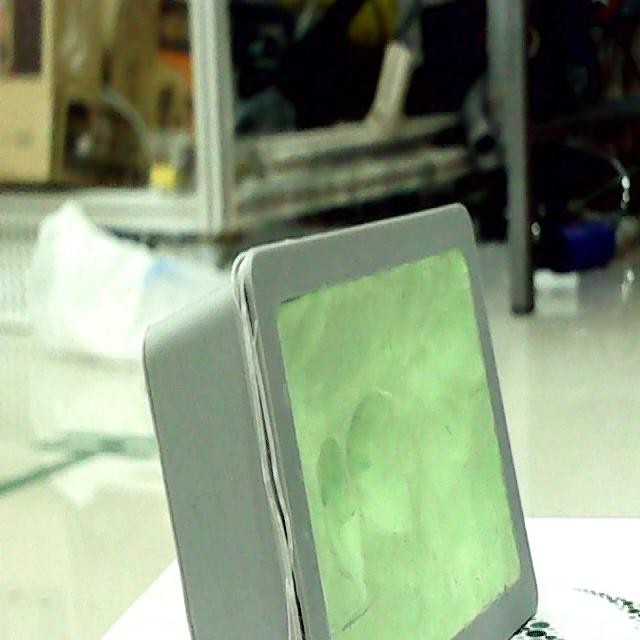block: (146, 202, 535, 640)
